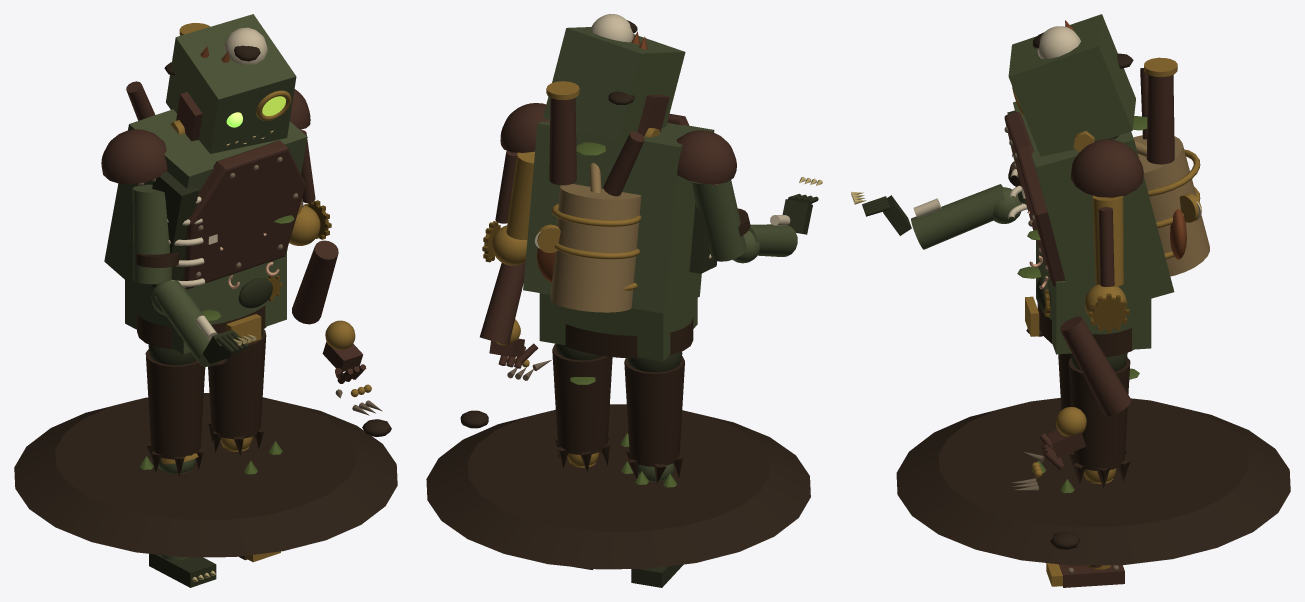
The model's file is revenant-undead.glb.
The picture shows the model from 3 angles, left to right: view 1: azimuth 30°, elevation 25°; view 2: azimuth 150°, elevation 25°; view 3: azimuth 270°, elevation 25°; orthographic projection. The views are drawn at different scales.
Parts seen in each view (by area): view 1: grave_mound, chest_plate, skull, chest, thigh_L, belly, thigh_R, upper_arm_L, pauldron_L, forearm_R, forearm_L, flesh_tear (+15 smaller); view 2: grave_mound, chest, skull, steam_tank, thigh_L, thigh_R, belly, upper_arm_L, pauldron_L, smokestack, forearm_R, belt (+16 smaller); view 3: grave_mound, skull, chest, steam_tank, thigh_R, pauldron_R, chest_plate, forearm_R, forearm_L, belly, smokestack, upper_arm_R_core (+12 smaller).
Boxes of the visible parts, left/top/right/bottom form: grave_mound: left=14, top=393, right=397, bottom=557; chest_plate: left=182, top=140, right=305, bottom=289; skull: left=166, top=14, right=296, bottom=153; chest: left=104, top=109, right=307, bottom=303; thigh_L: left=145, top=349, right=205, bottom=459; belly: left=125, top=250, right=286, bottom=354; thigh_R: left=208, top=329, right=266, bottom=439; upper_arm_L: left=132, top=184, right=171, bottom=284; pauldron_L: left=101, top=129, right=167, bottom=184; forearm_R: left=292, top=240, right=338, bottom=324; forearm_L: left=154, top=280, right=219, bottom=366; flesh_tear: left=151, top=171, right=198, bottom=287; grave_mound: left=426, top=404, right=810, bottom=569; chest: left=523, top=121, right=714, bottom=313; skull: left=543, top=27, right=685, bottom=143; steam_tank: left=550, top=184, right=641, bottom=312; thigh_L: left=624, top=356, right=684, bottom=466; thigh_R: left=552, top=344, right=612, bottom=454; belly: left=539, top=293, right=697, bottom=361; upper_arm_L: left=692, top=180, right=746, bottom=261; pauldron_L: left=676, top=130, right=736, bottom=184; smokestack: left=549, top=98, right=576, bottom=185; forearm_R: left=480, top=261, right=525, bottom=344; belt: left=563, top=318, right=693, bottom=358; grave_mound: left=896, top=398, right=1290, bottom=565; skull: left=1008, top=14, right=1135, bottom=156; chest: left=1013, top=101, right=1174, bottom=317; steam_tank: left=1133, top=135, right=1209, bottom=276; thigh_R: left=1068, top=357, right=1130, bottom=470; pauldron_R: left=1071, top=139, right=1143, bottom=197; chest_plate: left=1004, top=112, right=1065, bottom=286; forearm_R: left=1060, top=316, right=1131, bottom=415; forearm_L: left=911, top=184, right=1004, bottom=249; belly: left=1036, top=240, right=1151, bottom=354; smokestack: left=1146, top=74, right=1174, bottom=164; upper_arm_R_core: left=1092, top=195, right=1123, bottom=286.
Size of what is drawn, in the model's own units: 1.41 by 2.14 by 1.55.
